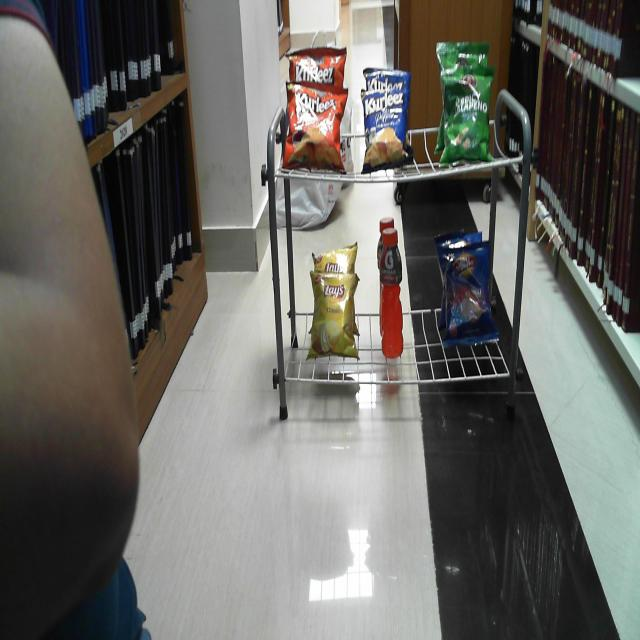Plastic: (444, 243, 494, 345), (286, 90, 346, 174), (442, 72, 492, 163), (360, 92, 410, 173), (310, 276, 358, 356), (380, 227, 403, 357), (286, 46, 348, 87), (438, 37, 490, 71), (310, 241, 360, 273), (363, 66, 409, 88)
